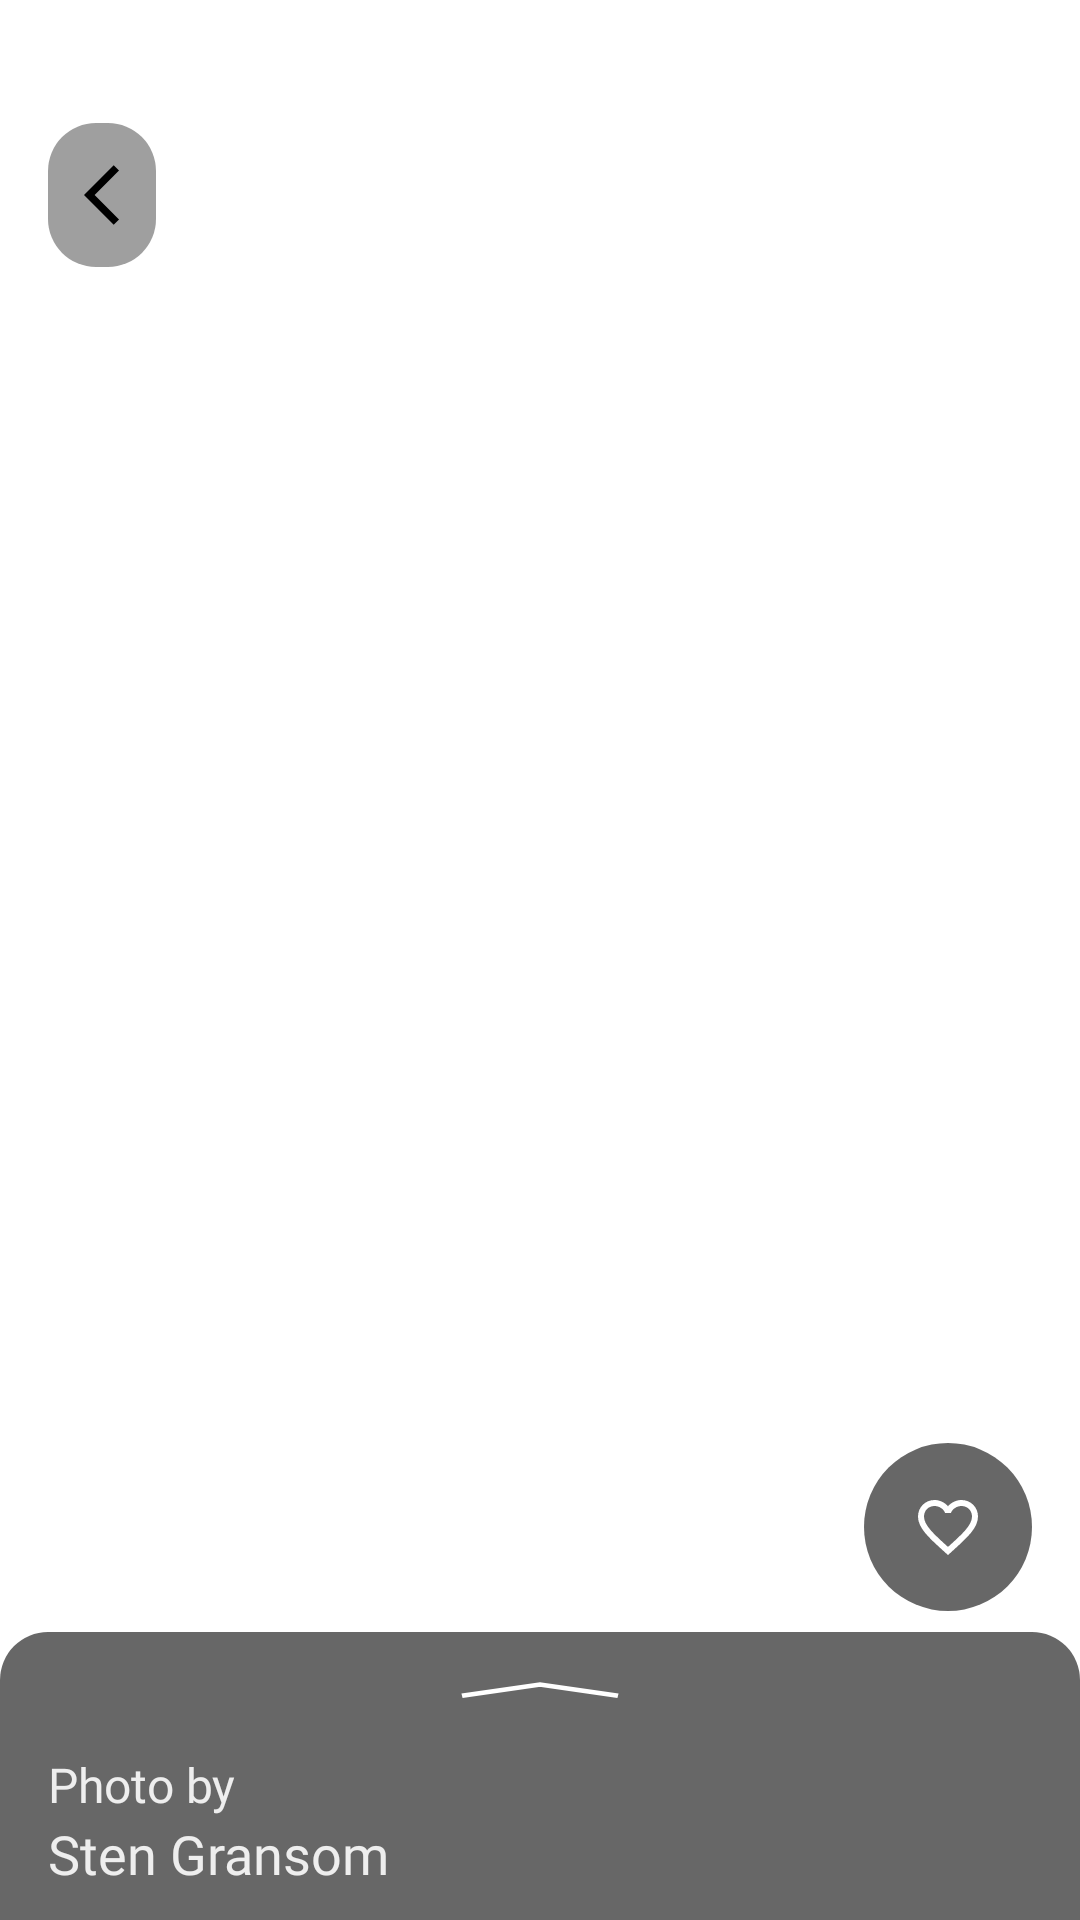

Where icons sit on this 1080px x 1920px app screen, as [x1,y1,x2,y2]:
back: [84,165,119,225]
favorite: [864,1443,1032,1611]
